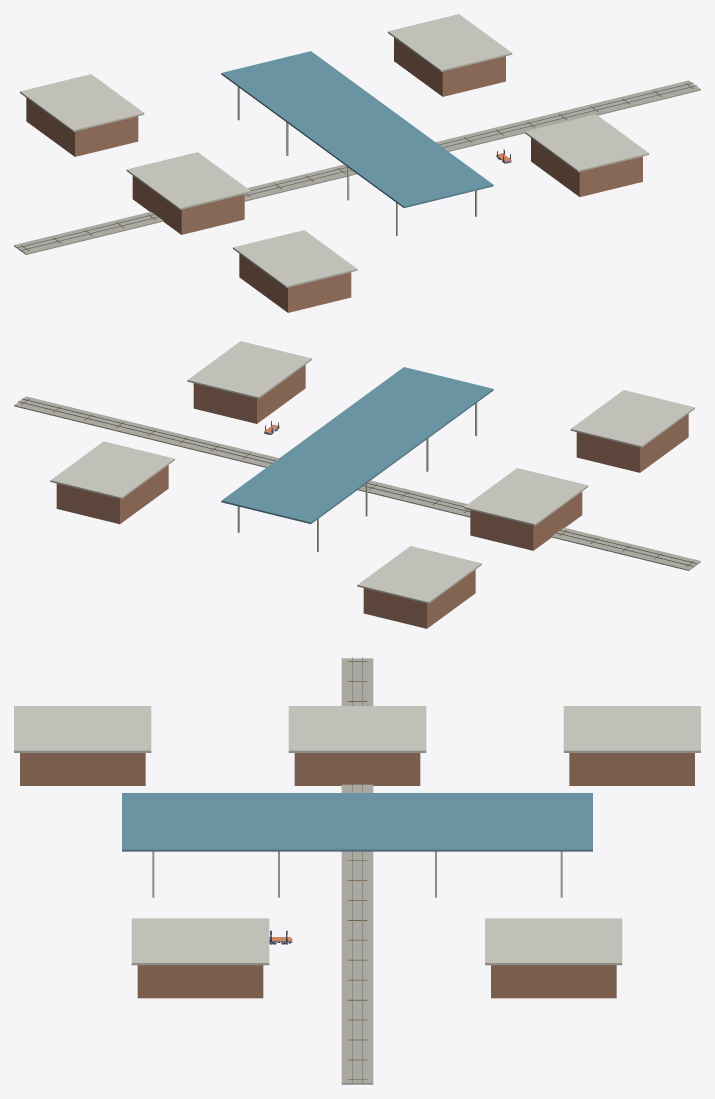
The model's file is valley-2-12.glb.
3 views of the same model, one above another, from view 1: azimuth 30°, elevation 25°; view 2: azimuth 150°, elevation 25°; view 3: azimuth 270°, elevation 25° (orthographic). The views are drawn at different scales.
Visible parts, largest first — view 1: valley-2-12; view 2: valley-2-12; view 3: valley-2-12.
Part boxes in pixels (bbox=[...]): valley-2-12: bbox=[14, 14, 700, 312]; valley-2-12: bbox=[14, 341, 700, 628]; valley-2-12: bbox=[14, 657, 700, 1084].
Size of the model in its own units: 256 by 14.3 by 175.
9 materials, 3 textured.
